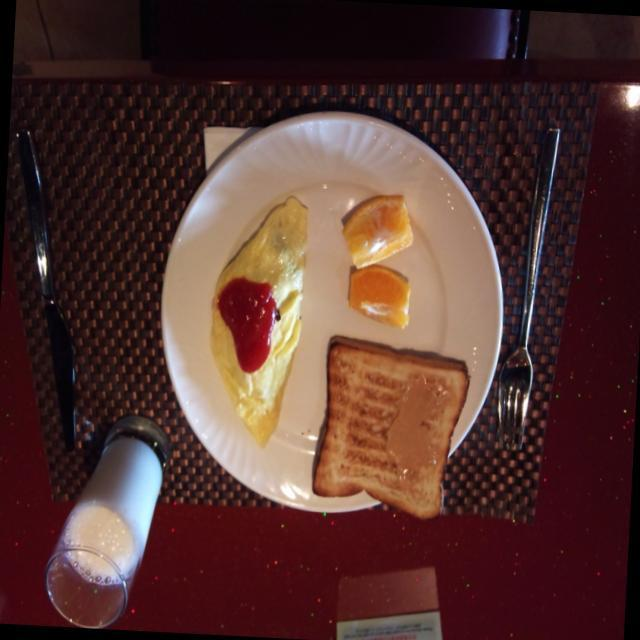Omelet: (200, 196, 318, 464)
